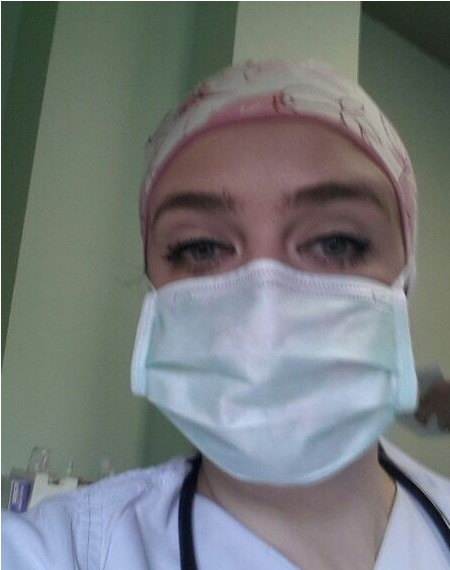face_with_mask: (126, 51, 426, 486)
